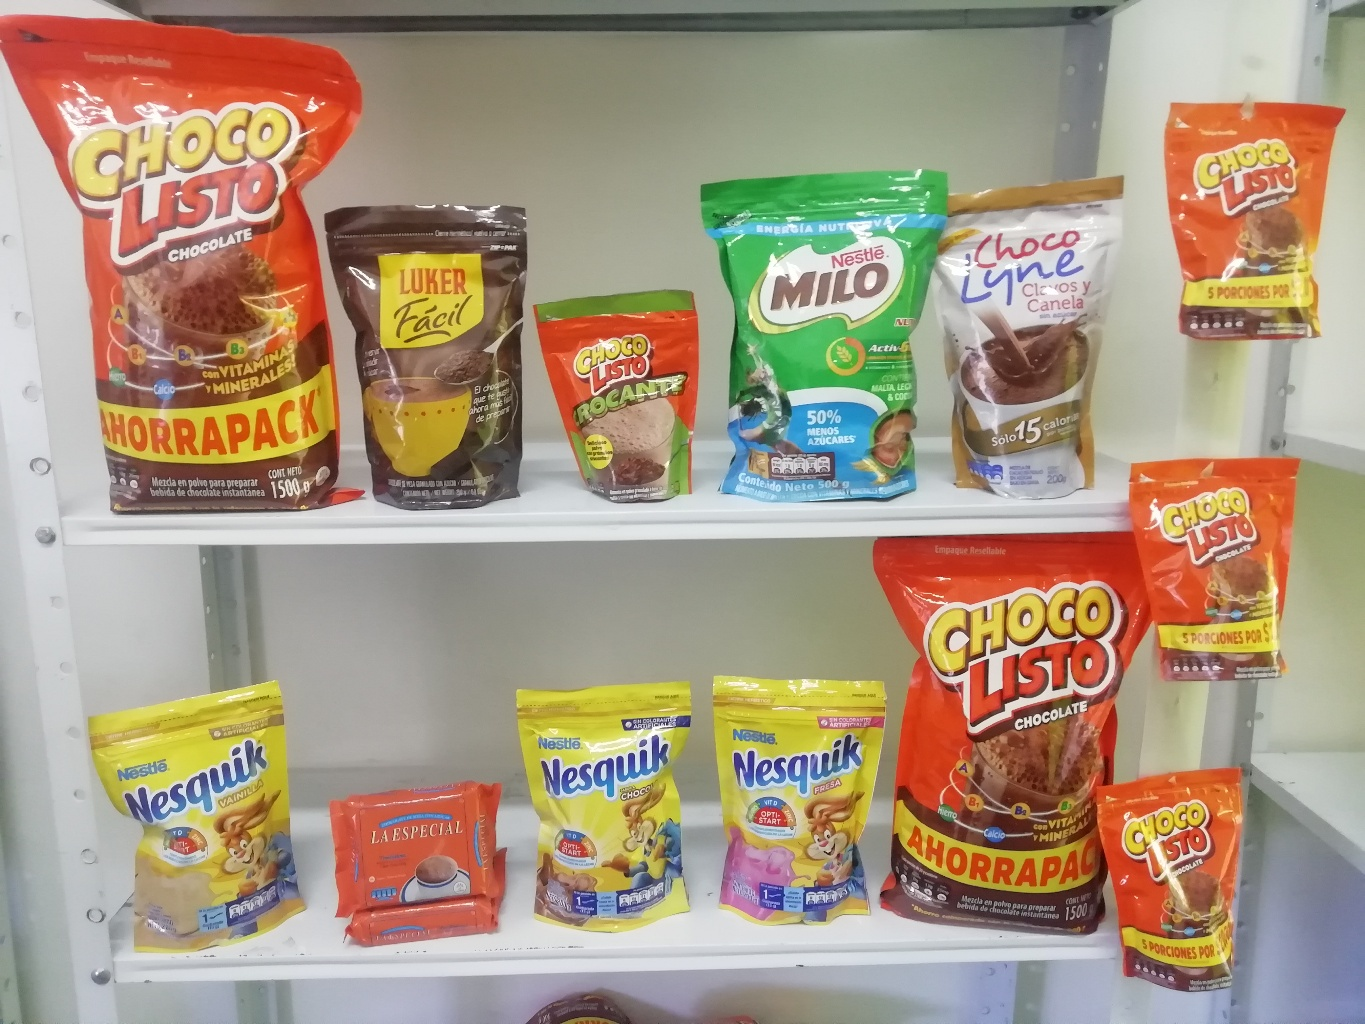COL0170102DYP10000: (534, 291, 698, 504)
COL0170103DYP1,500: (0, 14, 366, 516)
COL0170205DYP50000: (700, 172, 951, 504)
COL0170303DYP20000: (514, 678, 701, 936)
COL0170305DYP20000: (711, 670, 883, 926)
COL0170306DYP20000: (88, 672, 311, 928)
